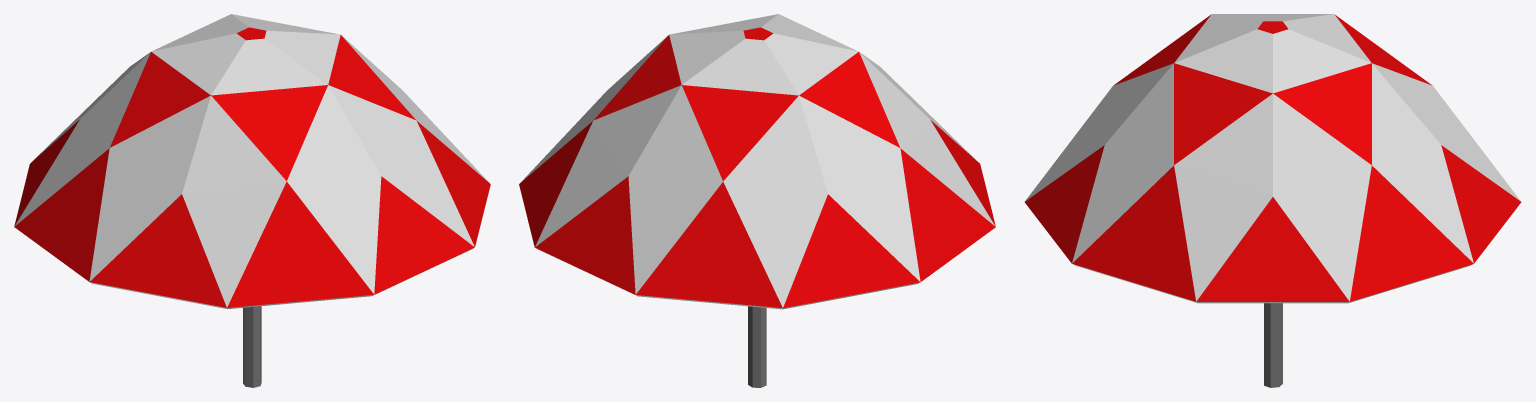
Rendered from Umbrella.fbx.
3 renders of one model, left to right at view 1: azimuth 30°, elevation 25°; view 2: azimuth 150°, elevation 25°; view 3: azimuth 270°, elevation 25°, orthographic. The views are drawn at different scales.
Parts seen in each view (by area): view 1: Icosphere; view 2: Icosphere; view 3: Icosphere.
Part boxes in pixels (x1=…): Icosphere: x1=14, y1=14, x2=490, y2=387; Icosphere: x1=519, y1=14, x2=995, y2=387; Icosphere: x1=1024, y1=14, x2=1521, y2=387.
Size of the model in its own units: 239 by 199 by 251.
